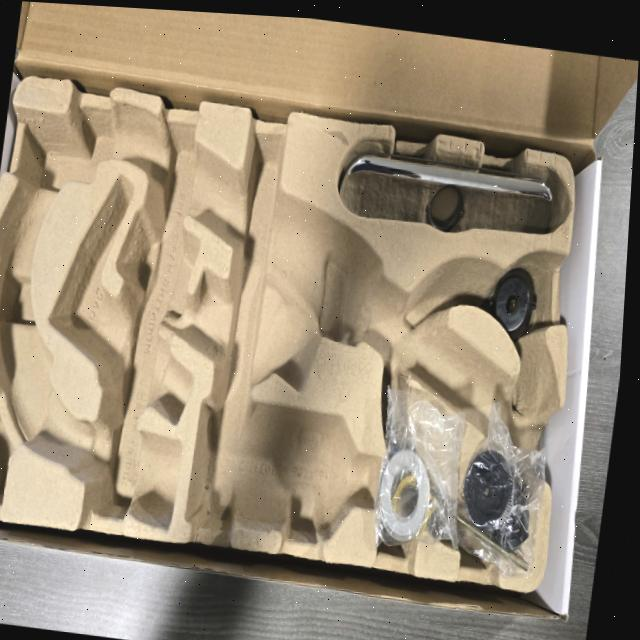1m: (0, 106, 560, 530)
2m: (51, 176, 193, 422)
3m: (183, 400, 382, 537)
4: (338, 150, 552, 232)
5: (493, 266, 536, 340)
6: (375, 382, 465, 547)
7o: (435, 401, 546, 583)
